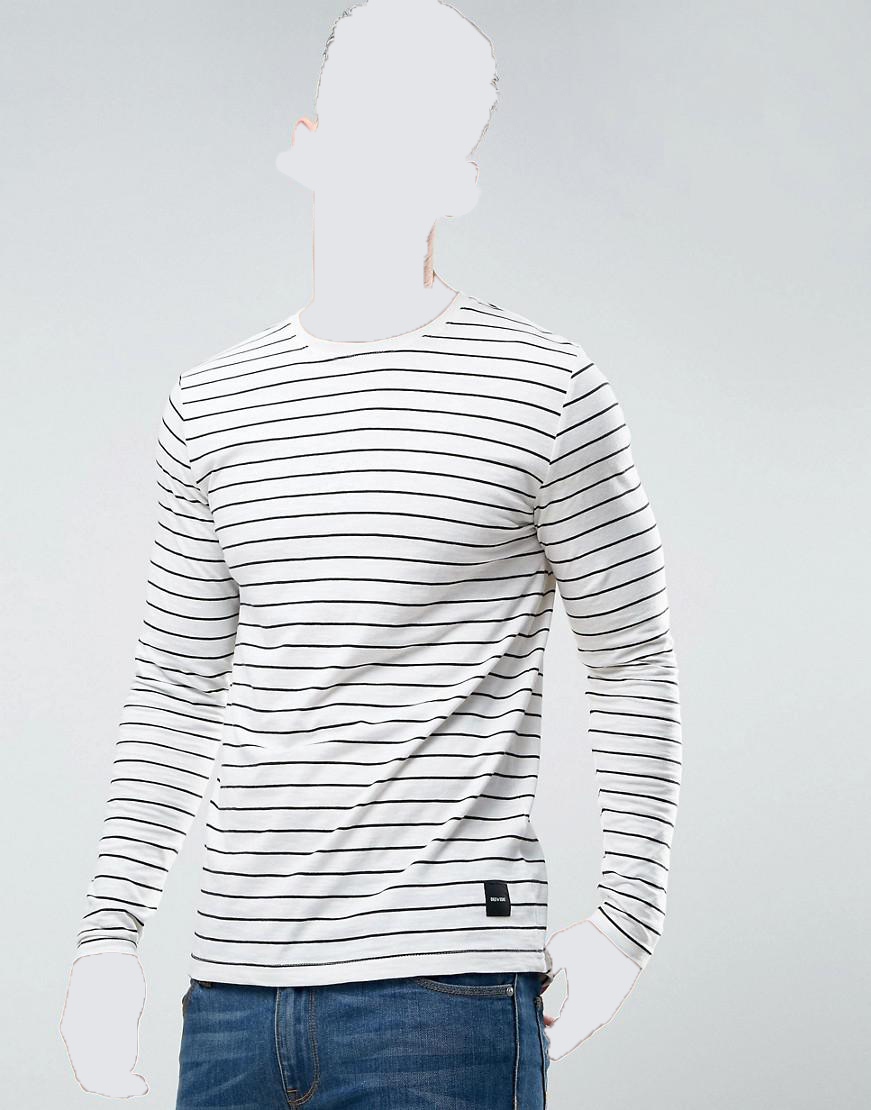teeshirt: (51, 293, 700, 985)
